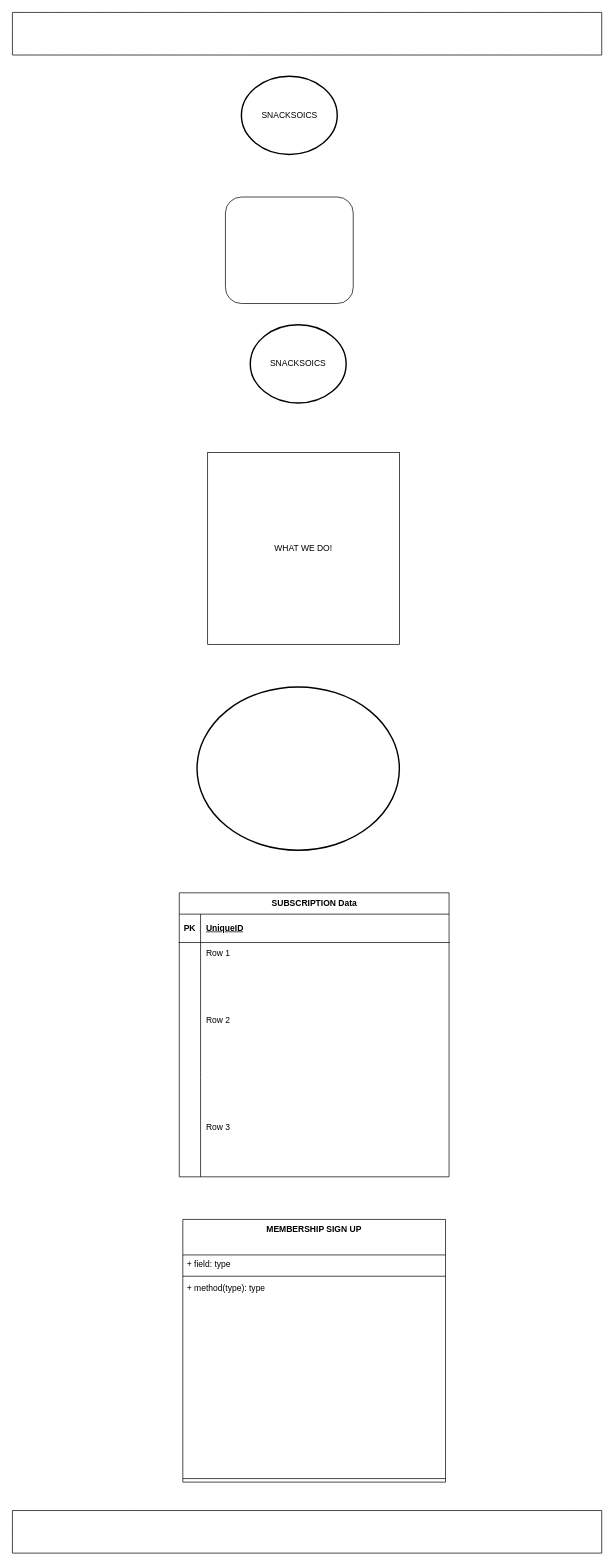
Image size: 614x1566. Some labels were removed from this diagram. Here are the shapes that lost their labels. From the top down, the centre of each, then its label:
the point at 289,250: LOGO
the point at 298,768: GET SNACK IDEAS HERE
